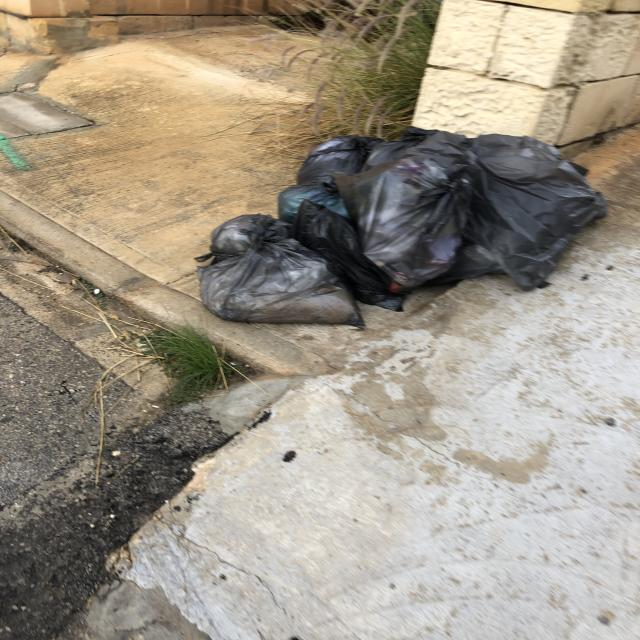Mixed Waste -Black Bag-: (454, 137, 611, 291), (336, 129, 462, 312), (202, 213, 363, 327), (276, 182, 362, 237), (296, 137, 384, 188)
